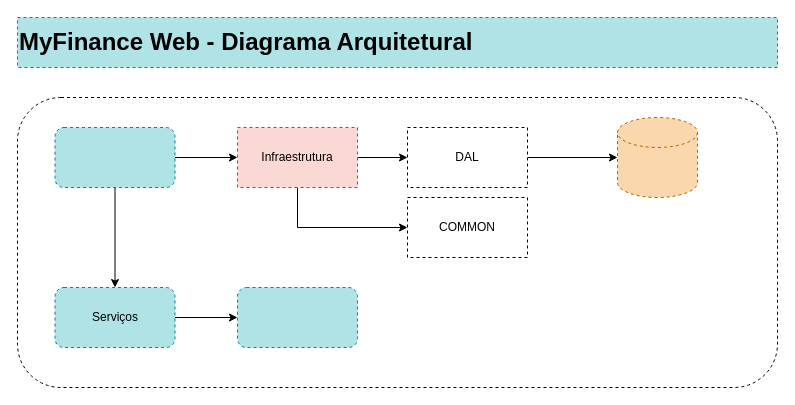
Some shapes in this 795 by 405 pixel diagram are drawn without their labels. The box of each missing label's shape, as (x1, y1, x2, y2) in pixels:
Domínio: (236, 286, 358, 348)
MyFinance Web ASP.NET MVC (.NET 6.0): (54, 126, 175, 188)
SQL myfinance: (616, 116, 698, 198)
